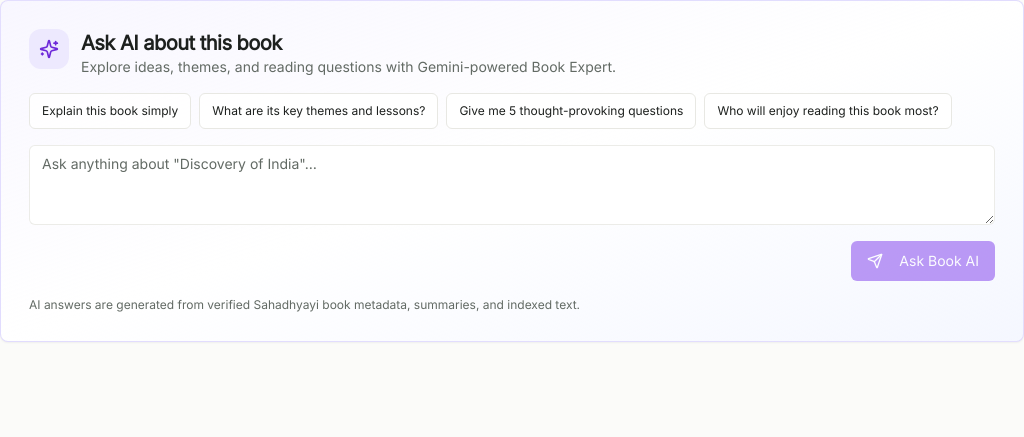
it: BookAIReader Component › displays rate limit message on 429 status
Type "Quick test" into the text box with placeholder "Ask anything about \"Discovery of India\"…". click: (512, 185)
box: [29,145,995,225]
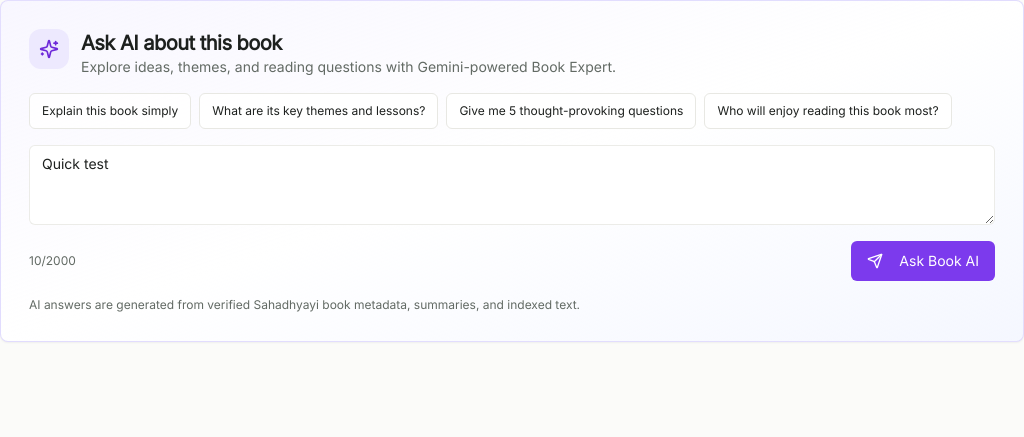
Click the button "Ask Book AI". click: (923, 261)
box: [851,241,995,281]
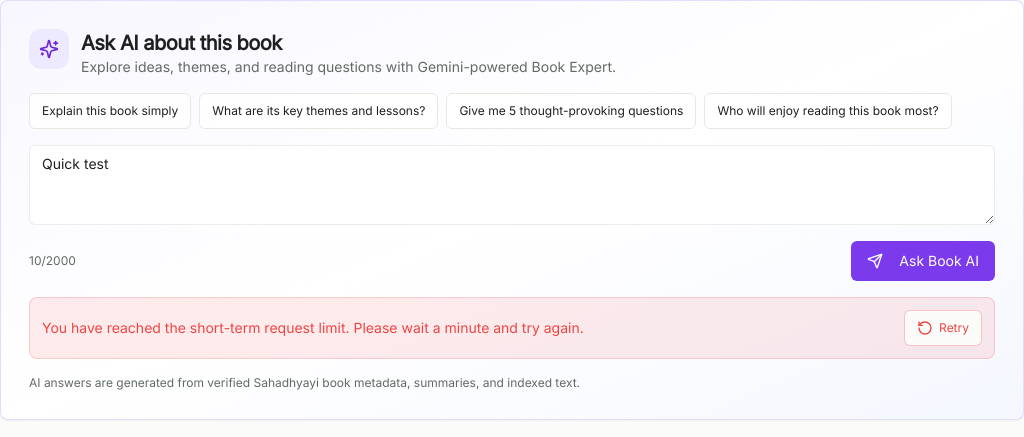
expect the message shows "short-term request limit": met, box [42,319,584,336]
